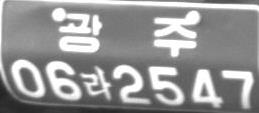0: (9, 58, 46, 99)
2: (114, 63, 151, 105)
4: (190, 67, 224, 108)
5: (152, 64, 185, 106)
6: (46, 58, 83, 101)
7: (224, 69, 255, 109)
광주_D: (58, 12, 197, 58)
라: (83, 64, 113, 102)
